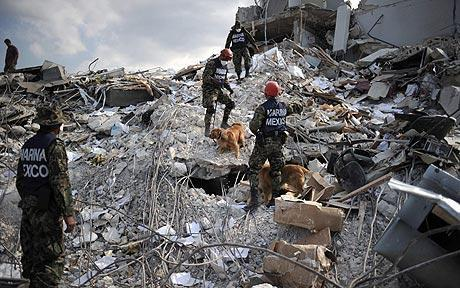victim: (14, 106, 76, 286), (243, 80, 291, 212), (202, 45, 237, 138), (221, 16, 262, 84), (1, 34, 20, 76)
